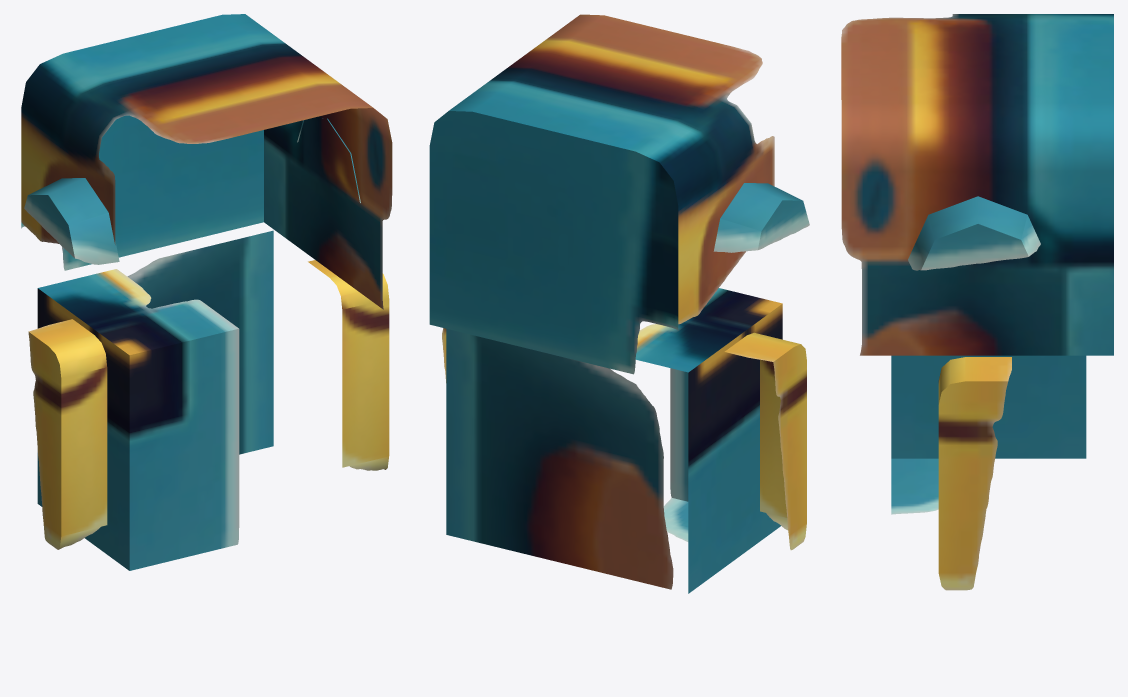
File: robot.fbx
The picture shows the model from 3 angles, left to right: view 1: azimuth 30°, elevation 25°; view 2: azimuth 150°, elevation 25°; view 3: azimuth 270°, elevation 25°; orthographic projection. The views are drawn at different scales.
Visible parts, largest first — view 1: robot; view 2: robot; view 3: robot.
Boxes of the visible parts, x1,y1,x2,y2 form: robot: (21, 14, 392, 570); robot: (429, 14, 809, 593); robot: (841, 14, 1113, 590).
Size of the model in its own units: 0.3 by 0.4636 by 0.2045.
